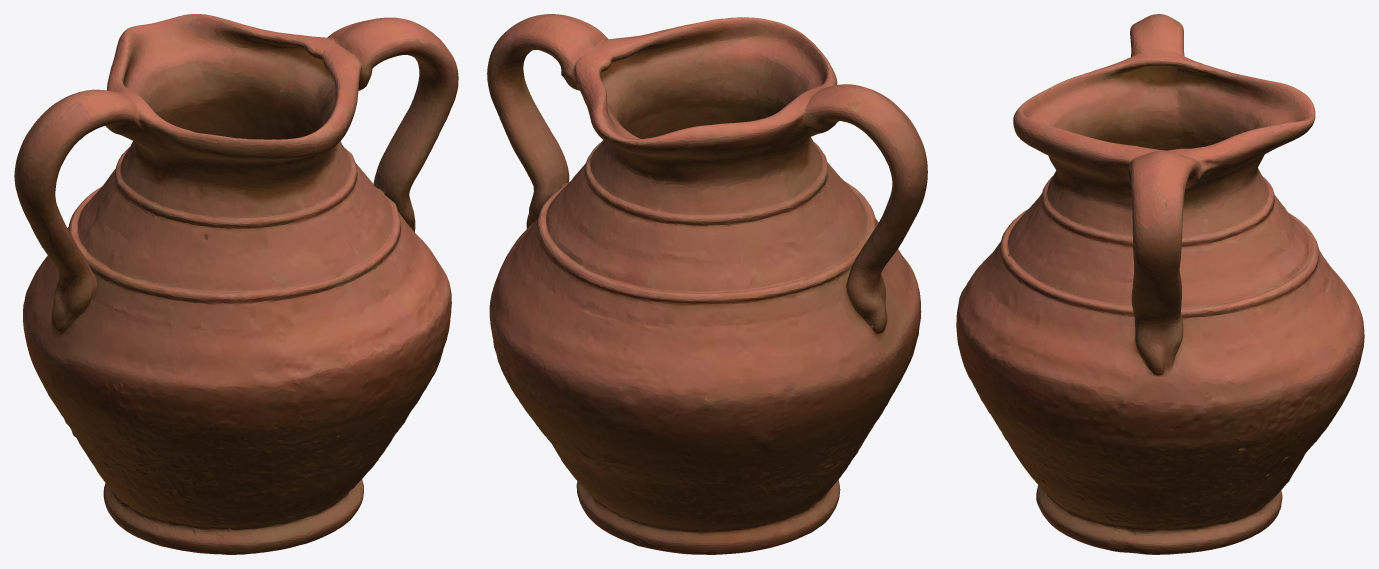
Rendered from prop_water_jug_01.glb.
3 views of the same model, side by side, from view 1: azimuth 30°, elevation 25°; view 2: azimuth 150°, elevation 25°; view 3: azimuth 270°, elevation 25° (orthographic). The views are drawn at different scales.
Visible parts, largest first — view 1: geometry_0; view 2: geometry_0; view 3: geometry_0.
Part boxes in pixels (x1=…): geometry_0: x1=14, y1=14, x2=458, y2=554; geometry_0: x1=487, y1=14, x2=927, y2=554; geometry_0: x1=956, y1=14, x2=1364, y2=554.
Bounding box in the file's own units: 1 × 0.9917 × 0.8699.
Materials: 1 (1 with a texture image).
